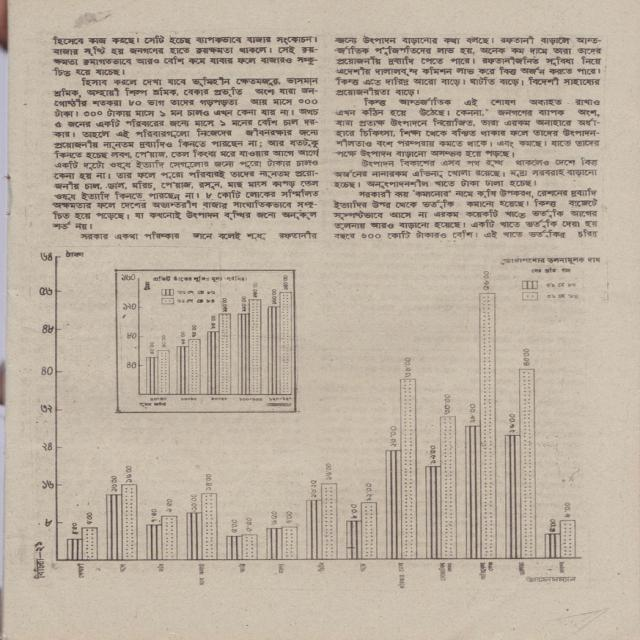image: (38, 245, 608, 591)
page number: (33, 541, 46, 552)
paragraph: (52, 77, 320, 231), (332, 36, 603, 97), (334, 97, 602, 158), (330, 188, 599, 240), (50, 34, 320, 76), (332, 157, 600, 189), (79, 230, 320, 242)
text: (33, 558, 46, 580)
